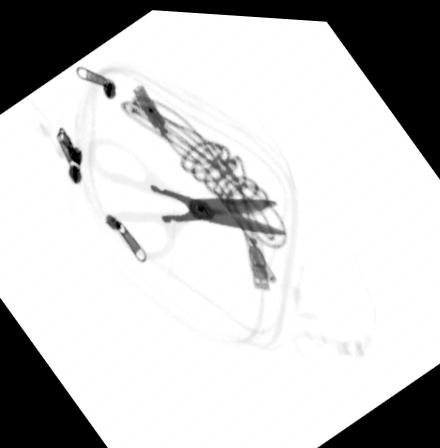Scissors: (86, 136, 287, 257)
